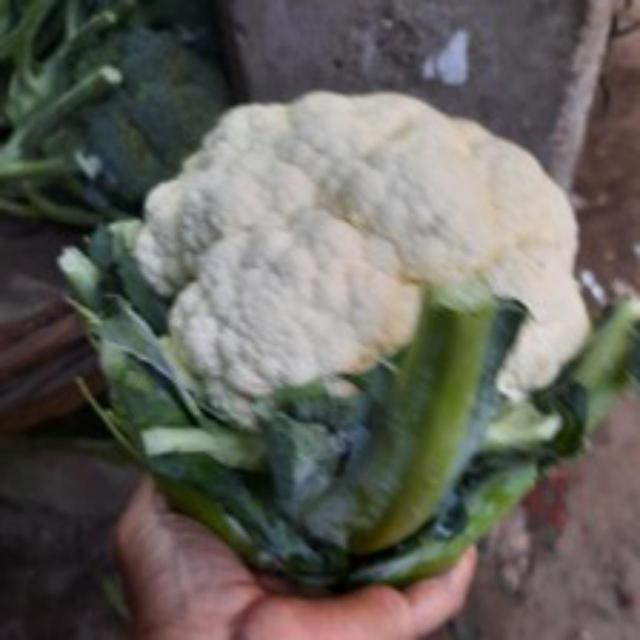cauliflower: (113, 81, 600, 517)
